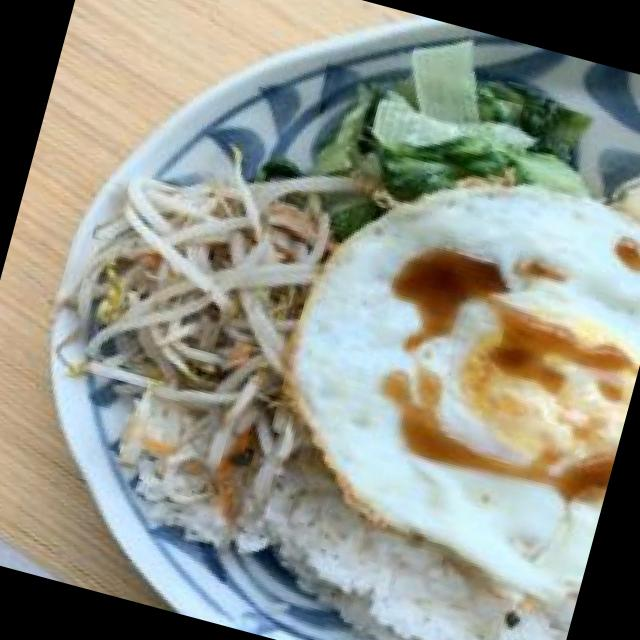fried_eggs: (251, 135, 640, 614)
mung_bean_sprouts: (88, 170, 328, 418)
rice: (288, 519, 516, 640)
